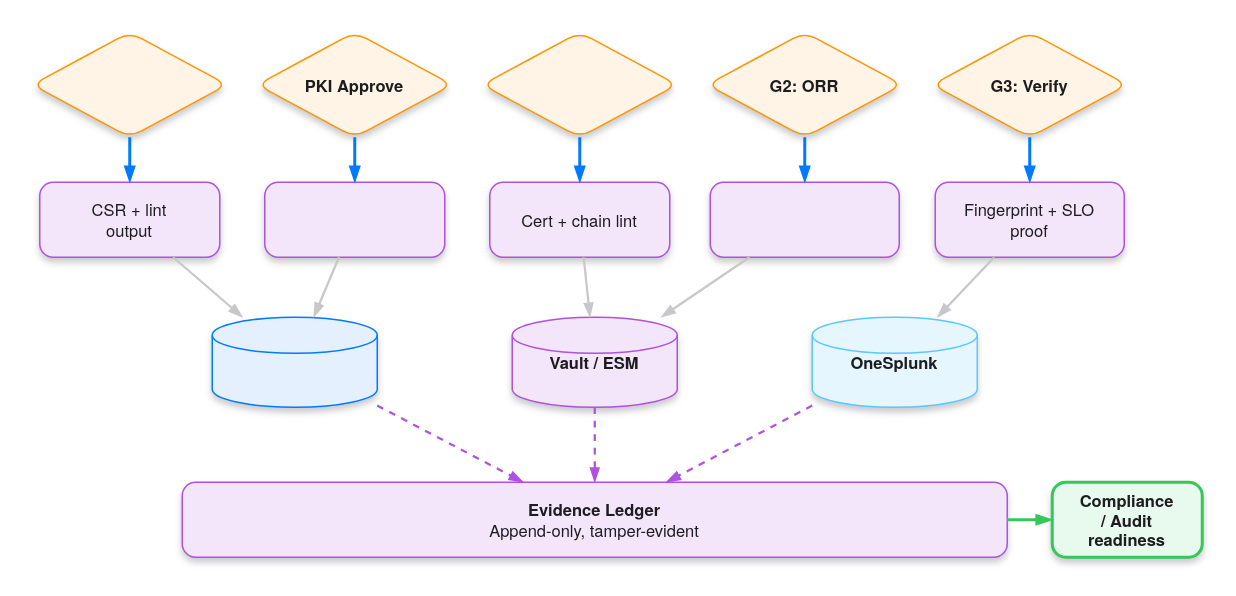
Image size: 1236x596. Some labels were removed from this diagram. Each missing label, with the centre of its shape:
Approval record: (354,221)
DCERTS: (294,364)
G1: CSR Lint: (129,86)
G2: Cert Lint: (579,86)
ORR form + risk score: (804,221)
